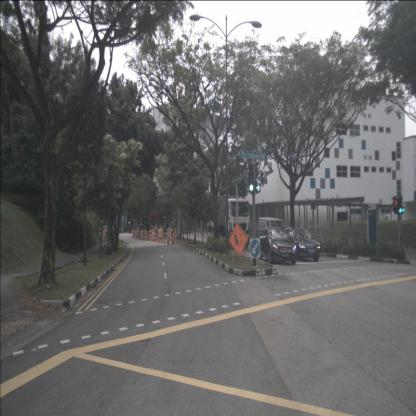barrier: (105, 231, 111, 238), (142, 230, 146, 240), (137, 230, 140, 239), (144, 231, 147, 240), (146, 231, 149, 240), (133, 230, 136, 238), (131, 230, 134, 237), (141, 230, 143, 240), (102, 230, 105, 236), (135, 230, 137, 239), (139, 231, 141, 239)
cone: (163, 234, 166, 244), (181, 235, 183, 245), (167, 234, 169, 244), (172, 235, 174, 244)
